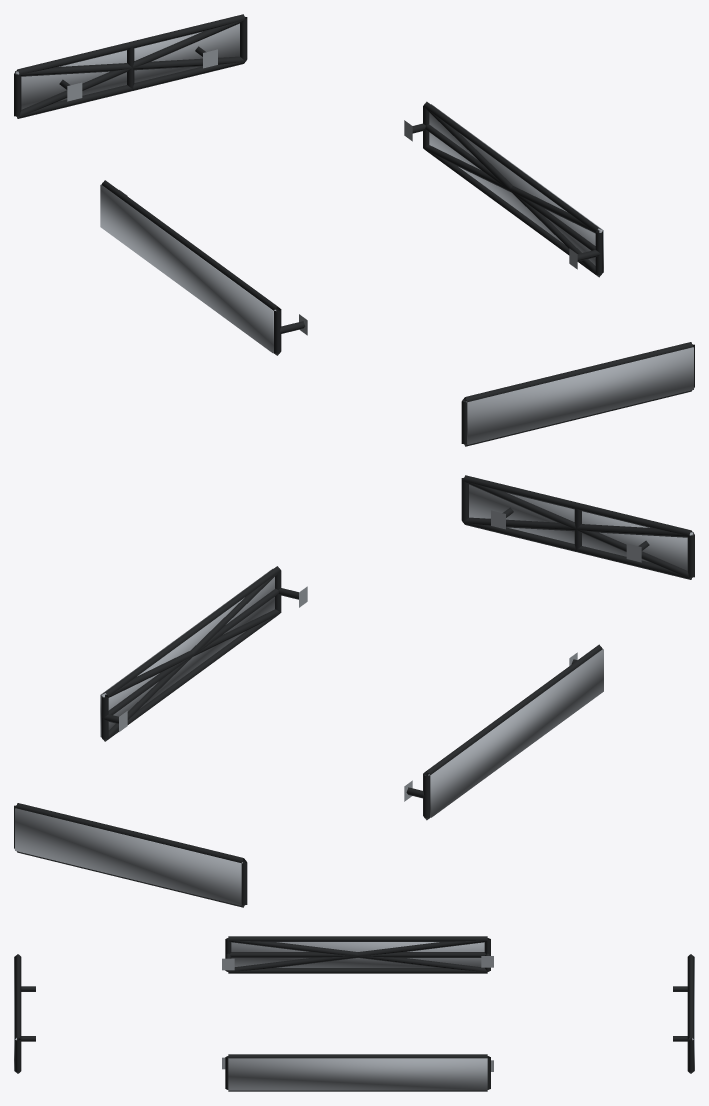
The model's file is hayase_muralha_2_protecao.glb.
The picture shows the model from 3 angles, top to bottom: view 1: azimuth 30°, elevation 25°; view 2: azimuth 150°, elevation 25°; view 3: azimuth 270°, elevation 25°; orthographic projection. The views are drawn at different scales.
Parts seen in each view (by area): view 1: Protection_front_Level3_Details, Protection_left_Level3_Details, Protection_rear_Level3_Details, Protection_rear_Level1_Details, Protection_right_Level1_Details, Protection_right_Level2_Details, Protection_rear_Level2_Details, Protection_right_Level3_Details, Protection_front_Level1_Details, Protection_left_Level1_Details; view 2: Protection_rear_Level3_Details, Protection_left_Level3_Details, Protection_front_Level3_Details, Protection_front_Level1_Details, Protection_right_Level1_Details, Protection_right_Level2_Details, Protection_front_Level2_Details, Protection_right_Level3_Details, Protection_rear_Level1_Details, Protection_left_Level1_Details; view 3: Protection_right_Level3_Details, Protection_left_Level2_Details, Protection_left_Level1_Details, Protection_left_Level3_Details, Protection_right_Level1_Details, Protection_rear_Level1_Details, Protection_front_Level1_Details.
Part boxes in pixels (x1,y1,x2,y2): Protection_front_Level3_Details: (466, 347, 693, 444); Protection_left_Level3_Details: (100, 184, 276, 353); Protection_rear_Level3_Details: (15, 23, 239, 109); Protection_rear_Level1_Details: (14, 14, 247, 118); Protection_right_Level1_Details: (404, 101, 602, 277); Protection_right_Level2_Details: (423, 106, 601, 276); Protection_rear_Level2_Details: (16, 20, 245, 118); Protection_right_Level3_Details: (429, 104, 603, 272); Protection_front_Level1_Details: (461, 342, 694, 446); Protection_left_Level1_Details: (101, 180, 307, 355); Protection_rear_Level3_Details: (15, 808, 242, 905); Protection_left_Level3_Details: (428, 649, 603, 817); Protection_front_Level3_Details: (469, 484, 693, 570); Protection_front_Level1_Details: (461, 475, 694, 579); Protection_right_Level1_Details: (101, 566, 307, 741); Protection_right_Level2_Details: (102, 571, 280, 741); Protection_front_Level2_Details: (463, 481, 692, 579); Protection_right_Level3_Details: (100, 568, 274, 736); Protection_rear_Level1_Details: (14, 803, 247, 907); Protection_left_Level1_Details: (404, 644, 602, 820); Protection_right_Level3_Details: (228, 1058, 487, 1090); Protection_left_Level2_Details: (228, 939, 487, 972); Protection_left_Level1_Details: (222, 936, 493, 973); Protection_left_Level3_Details: (231, 942, 484, 967); Protection_right_Level1_Details: (222, 1054, 493, 1091); Protection_rear_Level1_Details: (673, 954, 693, 1073); Protection_front_Level1_Details: (15, 954, 35, 1073).
Size of the model in its own units: 2.46 by 0.354 by 5.83.
1 material, 1 textured.
